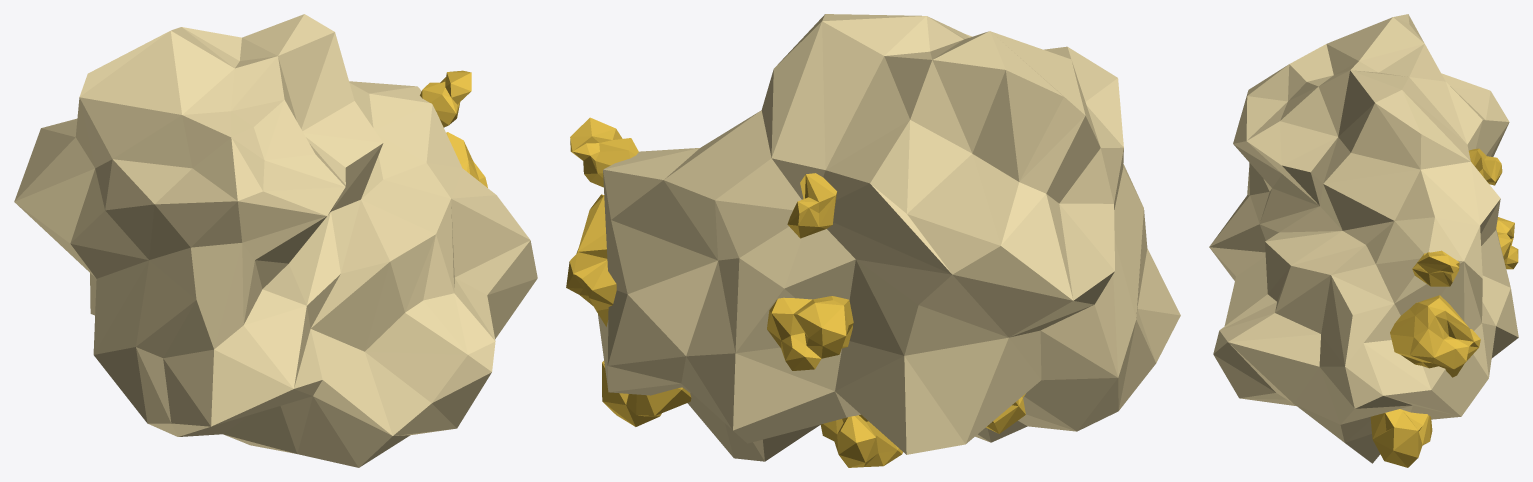
File: MetalOre (38).fbx
3 renders of one model, left to right at view 1: azimuth 30°, elevation 25°; view 2: azimuth 150°, elevation 25°; view 3: azimuth 270°, elevation 25°, orthographic. The views are drawn at different scales.
Visible parts, largest first — view 1: Asteroid393; view 2: Asteroid393; view 3: Asteroid393.
Boxes of the visible parts, box(x1,y1,x2,y2) form: Asteroid393: box(14, 14, 537, 467); Asteroid393: box(566, 14, 1180, 467); Asteroid393: box(1209, 14, 1518, 467).
Size of the model in its own units: 306 by 278 by 221.
